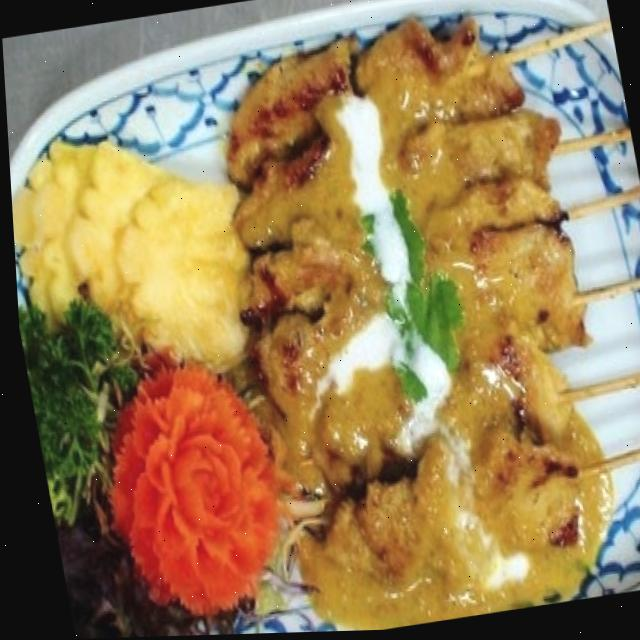牛肉菜式: (172, 0, 640, 636)
